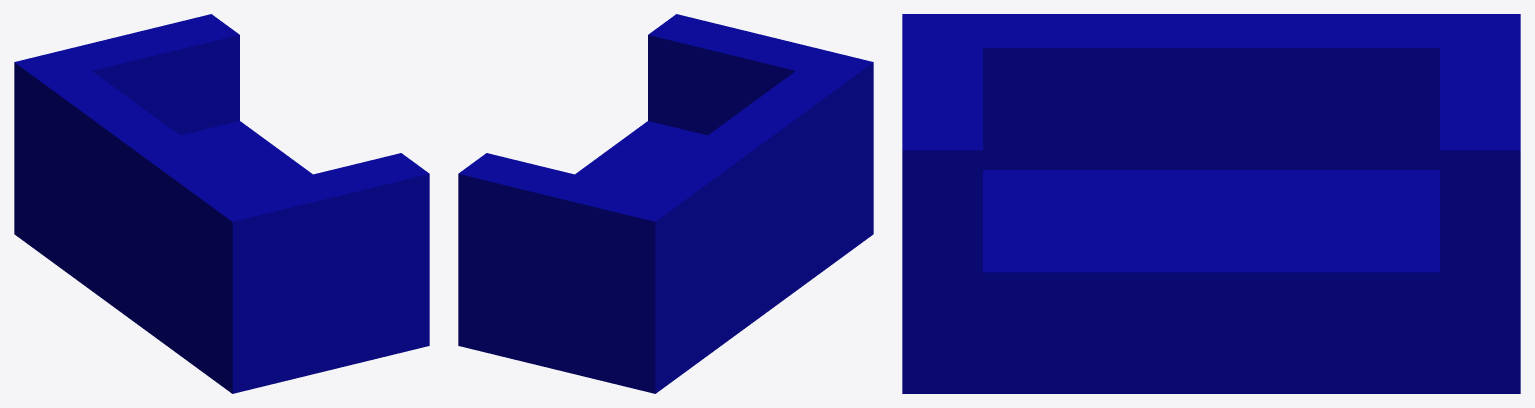
File: dice_2og-16-blue_lounge_sofa.obj
The picture shows the model from 3 angles, left to right: view 1: azimuth 30°, elevation 25°; view 2: azimuth 150°, elevation 25°; view 3: azimuth 270°, elevation 25°; orthographic projection. The views are drawn at different scales.
Parts seen in each view (by area): view 1: blue_lounge_sofa; view 2: blue_lounge_sofa; view 3: blue_lounge_sofa.
Part boxes in pixels (<box>): blue_lounge_sofa: <box>14,14,429,393</box>; blue_lounge_sofa: <box>458,14,873,393</box>; blue_lounge_sofa: <box>902,14,1520,393</box>.
Bounding box in the file's own units: 1.2 × 1 × 2.3.
1 material, 1 textured.
